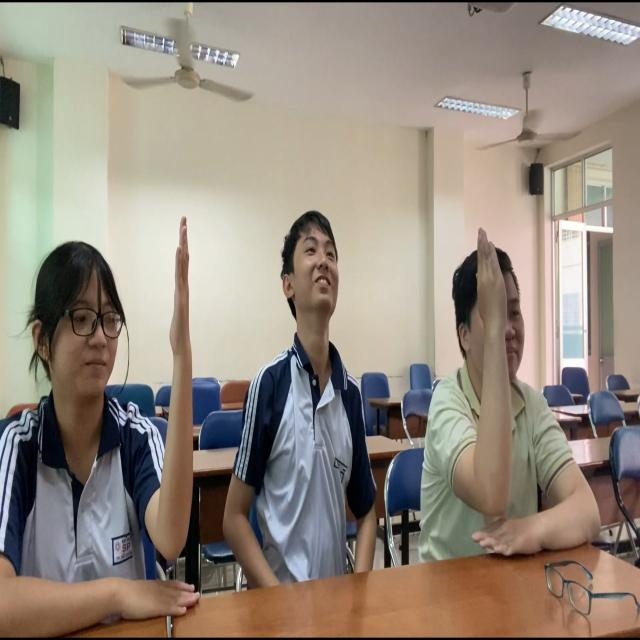raise_hand: (425, 176, 640, 640), (1, 181, 209, 640)
